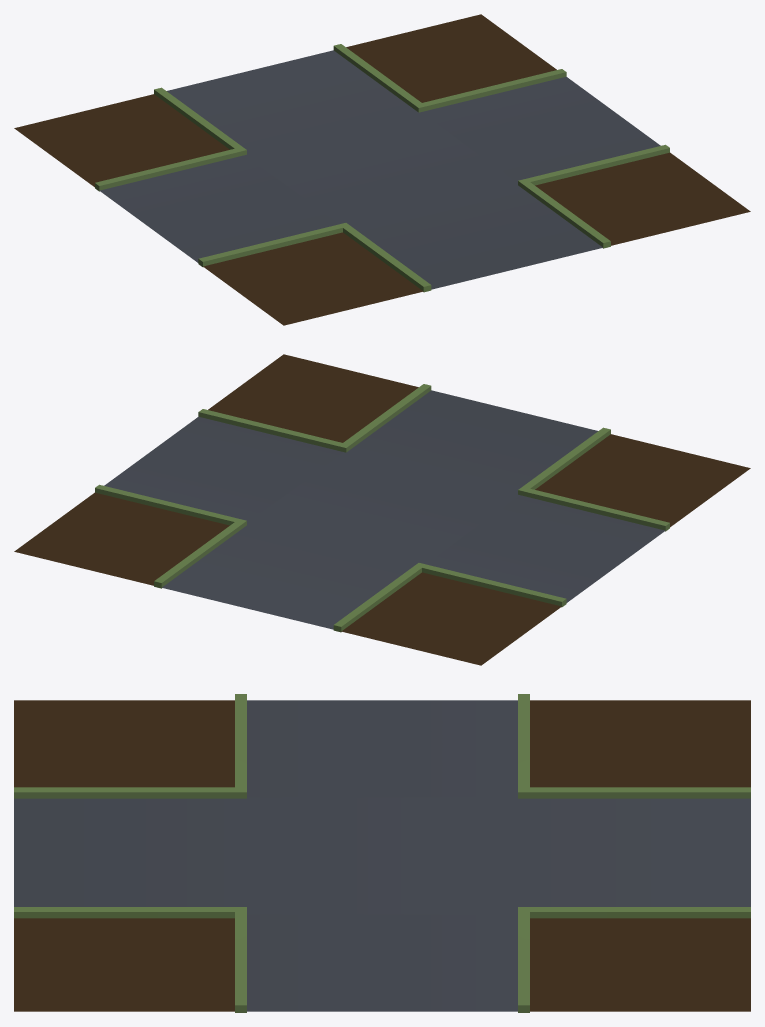
Rendered from Tile_16.fbx.
3 views of the same model, one above another, from view 1: azimuth 30°, elevation 25°; view 2: azimuth 150°, elevation 25°; view 3: azimuth 270°, elevation 25° (orthographic). The views are drawn at different scales.
Visible parts, largest first — view 1: Tile_16; view 2: Tile_16; view 3: Tile_16.
Part boxes in pixels (left/top/right/bottom): Tile_16: left=14, top=14, right=750, bottom=325; Tile_16: left=14, top=354, right=750, bottom=665; Tile_16: left=14, top=694, right=750, bottom=1012.
Bounding box in the file's own units: 3 × 0.0337 × 3.
